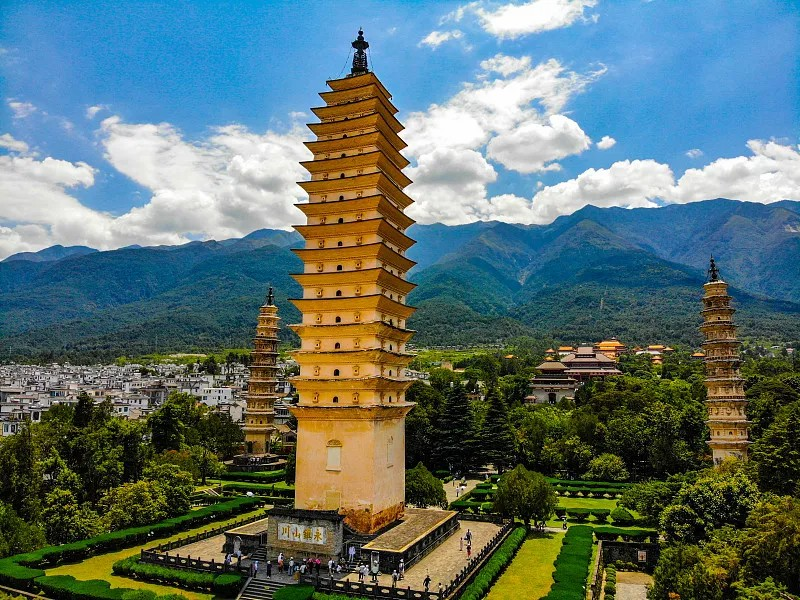ThreePagoda: (286, 27, 418, 537)
